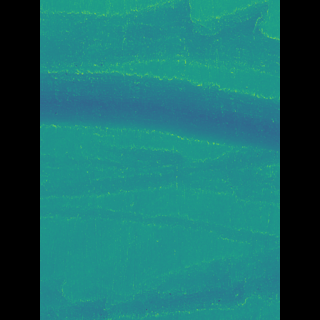Loch: (69, 67, 250, 196), (70, 0, 249, 76), (82, 254, 249, 320), (71, 204, 248, 249)
